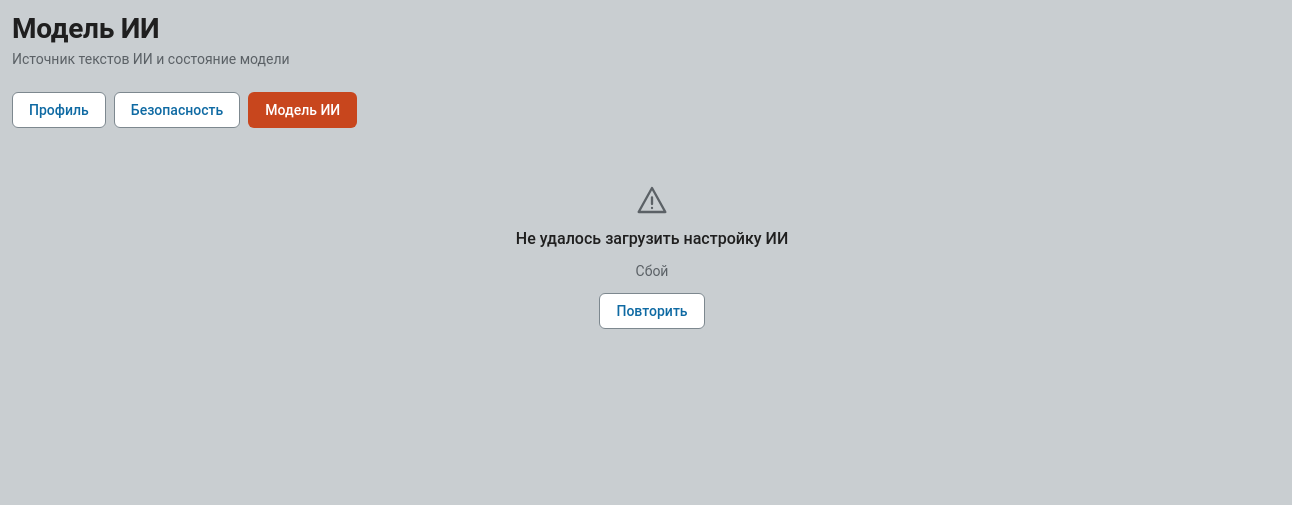
Test case: Модель ИИ: загрузка и состояния › ошибка загрузки настройки — ErrorState с «Повторить»
Expected: the text "Сбой" is shown, [636,262,668,281]
Click the button "Повторить".
click(652, 311)  # box [599,293,704,329]
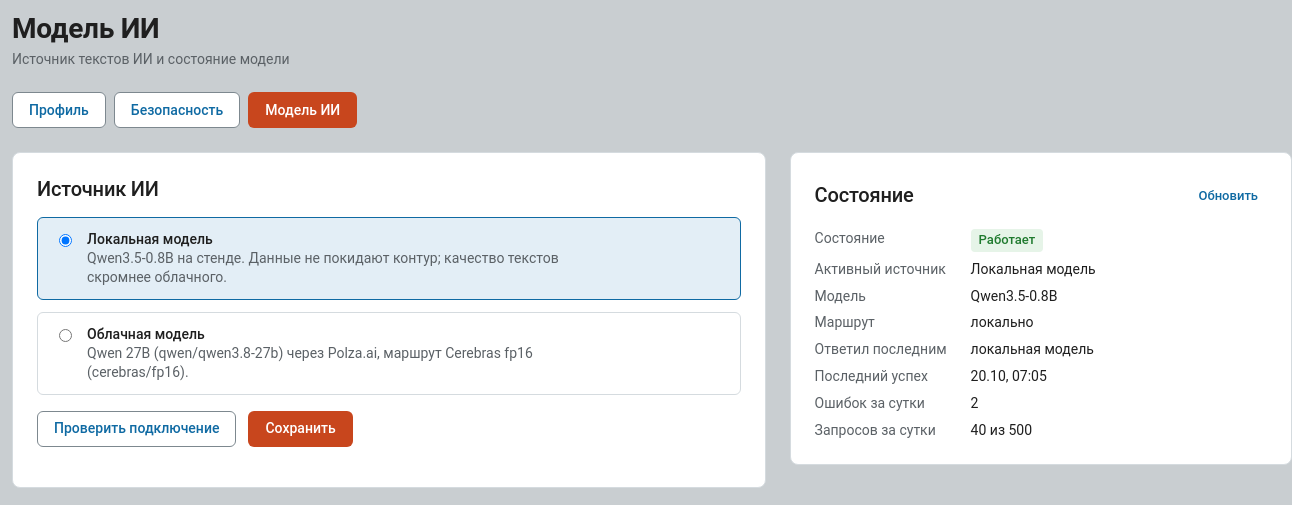
Now the radio button labelled "Локальная модель" is shown, box [59,234,72,248]
